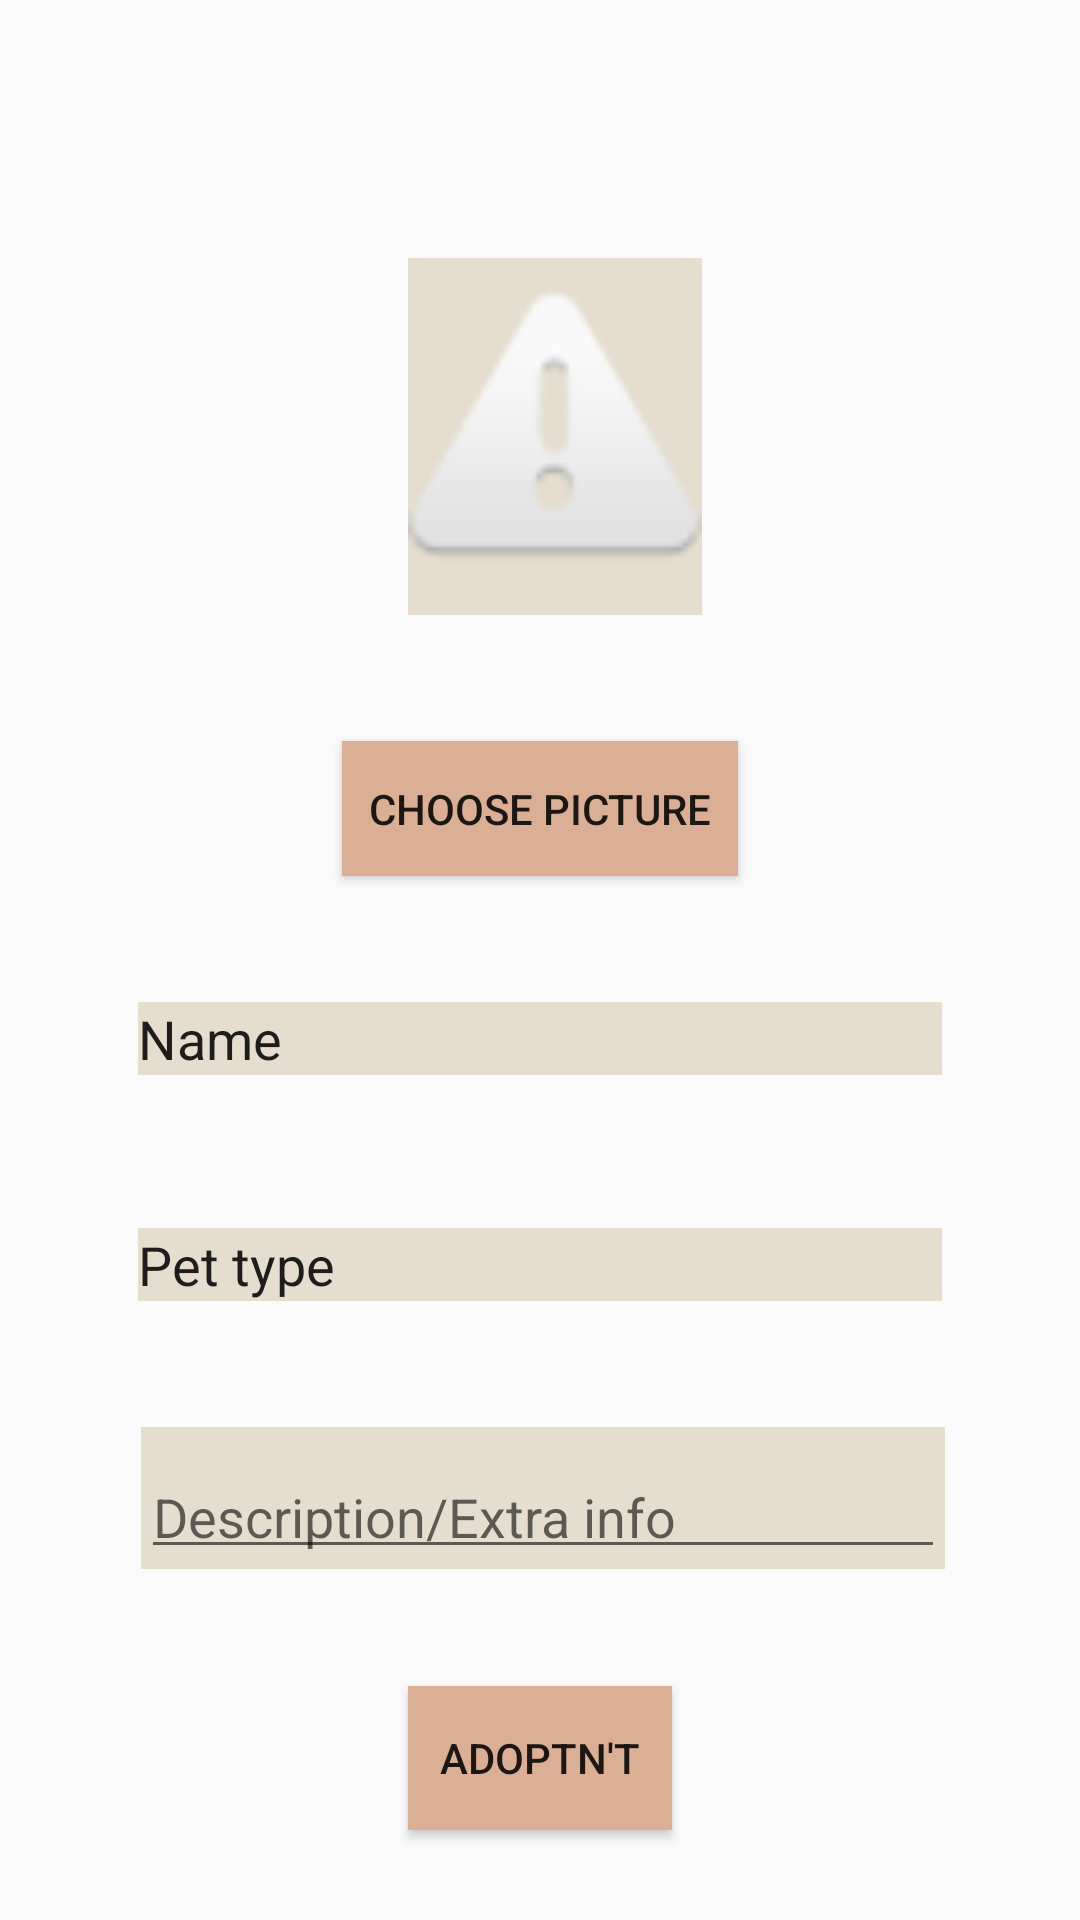

Named icons in this screenshot (1080*1920) and their bounding boxes, [left=x1, top=y1, right=x2, bottom=y2]:
alert: [left=408, top=258, right=702, bottom=615]
